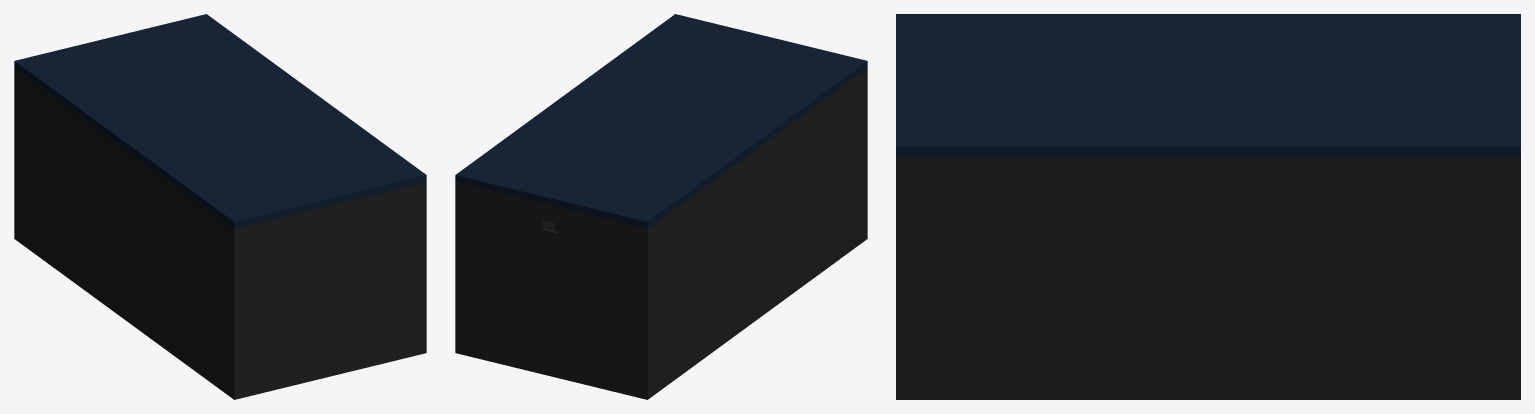
The model's file is cinema.glb.
3 views of the same model, side by side, from view 1: azimuth 30°, elevation 25°; view 2: azimuth 150°, elevation 25°; view 3: azimuth 270°, elevation 25° (orthographic). The views are drawn at different scales.
Parts seen in each view (by area): view 1: オブジェクト_83, オブジェクト_87; view 2: オブジェクト_83, オブジェクト_87; view 3: オブジェクト_83, オブジェクト_87.
Boxes of the visible parts, x1,y1,x2,y2 form: オブジェクト_83: (14, 68, 426, 399); オブジェクト_87: (14, 14, 426, 228); オブジェクト_83: (455, 68, 867, 399); オブジェクト_87: (455, 14, 867, 228); オブジェクト_83: (896, 157, 1520, 399); オブジェクト_87: (896, 14, 1520, 157).
Size of the model in its own units: 5.65 by 5 by 11.2.
